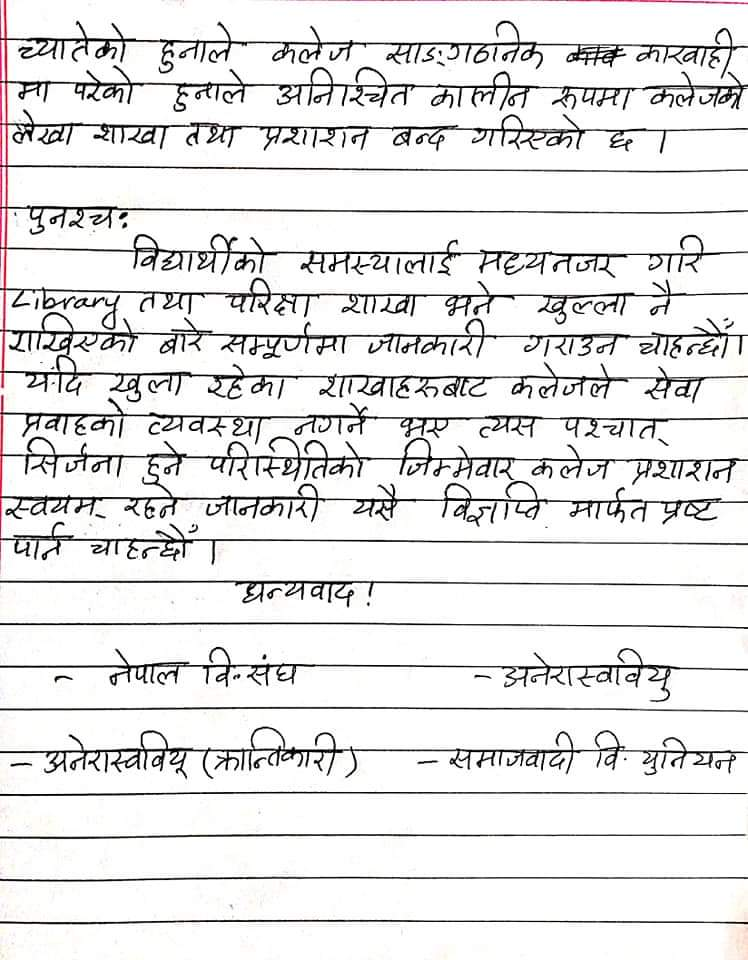text: (488, 639, 678, 704), (200, 717, 339, 781), (33, 728, 192, 783), (293, 229, 461, 279), (438, 727, 580, 781), (381, 21, 548, 66), (204, 440, 363, 481), (128, 232, 269, 275), (10, 18, 134, 66), (270, 67, 409, 109), (316, 369, 492, 402), (433, 482, 549, 532), (471, 243, 621, 281), (636, 730, 745, 782), (220, 322, 352, 364), (4, 314, 137, 355), (392, 440, 518, 482), (364, 319, 488, 361), (96, 639, 188, 694), (21, 190, 123, 238), (225, 572, 360, 608), (552, 408, 679, 446), (253, 115, 373, 155), (637, 24, 741, 70), (136, 404, 268, 440), (149, 22, 239, 74), (90, 526, 206, 566), (200, 483, 328, 519), (470, 116, 583, 155), (18, 440, 125, 481), (425, 72, 531, 112), (16, 397, 123, 436), (640, 71, 743, 111), (506, 363, 614, 401), (219, 277, 316, 318), (626, 450, 736, 486), (268, 23, 361, 65), (560, 483, 652, 525), (203, 362, 293, 403), (518, 325, 622, 360), (634, 322, 735, 358), (537, 289, 633, 324), (548, 77, 635, 113), (286, 404, 373, 440), (7, 109, 80, 151), (3, 523, 75, 565), (527, 447, 615, 481), (3, 492, 106, 521), (166, 75, 251, 110), (104, 364, 184, 401), (91, 116, 170, 153), (15, 357, 85, 398), (246, 651, 311, 694), (71, 68, 139, 107), (334, 289, 423, 318), (384, 121, 464, 153), (438, 284, 513, 318), (642, 236, 708, 274), (638, 367, 704, 404), (152, 318, 211, 359), (350, 484, 406, 526), (123, 484, 183, 523), (135, 442, 187, 485), (470, 410, 542, 441), (182, 112, 236, 153), (583, 729, 624, 781), (659, 494, 726, 525), (131, 286, 202, 315), (645, 276, 685, 321), (197, 648, 237, 693), (390, 409, 451, 436), (14, 76, 55, 105), (596, 120, 629, 153)
